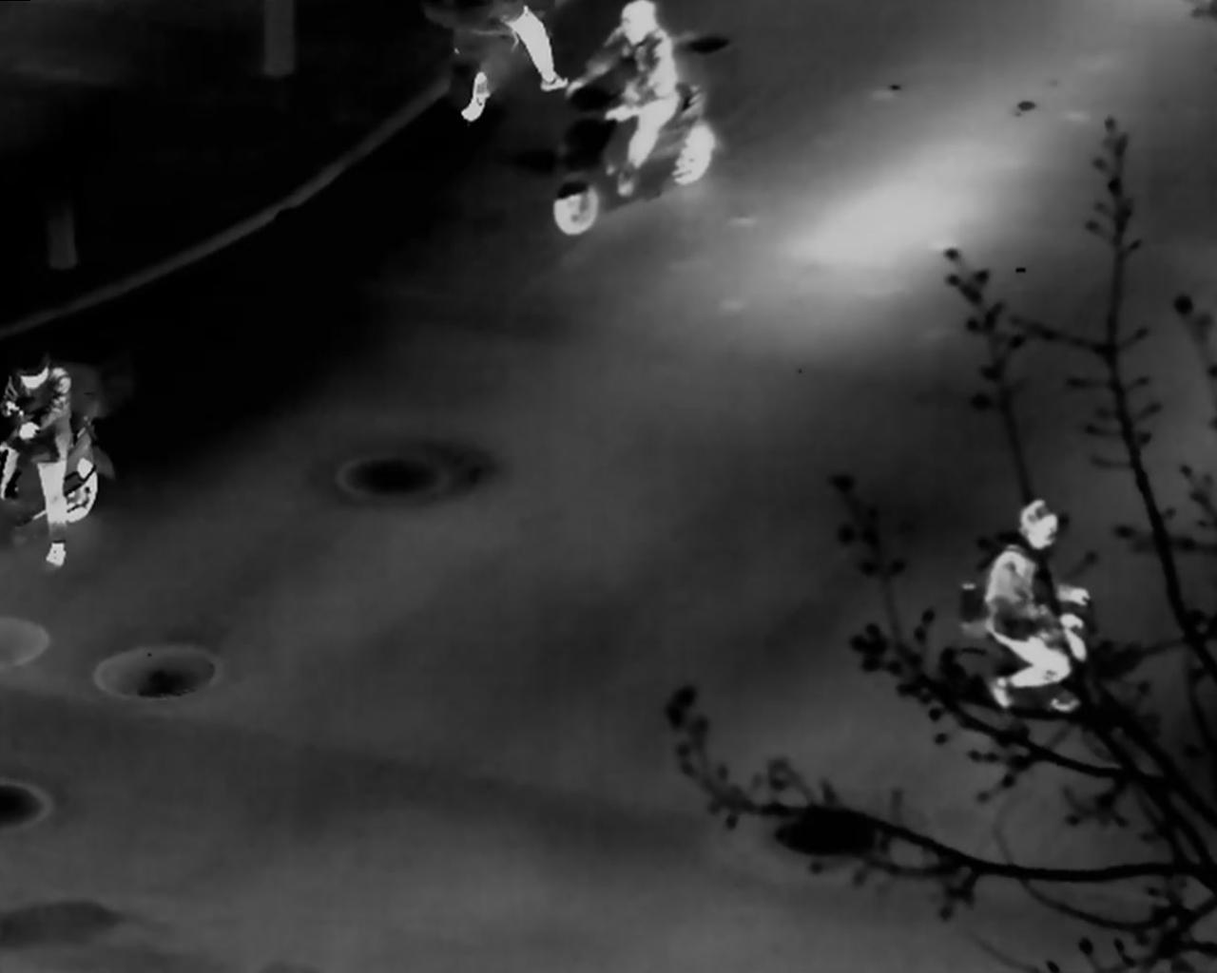person: (983, 497, 1092, 710), (565, 2, 681, 199)
